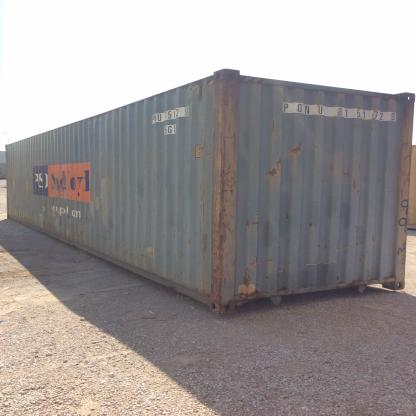Damage: (207, 81, 237, 309), (395, 140, 411, 288), (190, 159, 208, 286), (36, 211, 91, 240), (91, 175, 122, 219), (308, 234, 375, 252), (116, 240, 156, 270), (127, 195, 164, 224), (350, 103, 388, 126), (261, 260, 295, 282), (170, 224, 187, 264), (44, 180, 74, 201), (261, 283, 298, 298), (343, 172, 366, 196), (364, 263, 394, 281), (282, 139, 309, 158), (259, 159, 285, 178), (183, 82, 213, 98), (236, 211, 262, 229), (332, 272, 360, 286), (241, 264, 253, 296), (305, 211, 321, 230), (266, 114, 279, 136), (174, 269, 188, 281), (152, 167, 164, 179), (279, 209, 292, 219)
